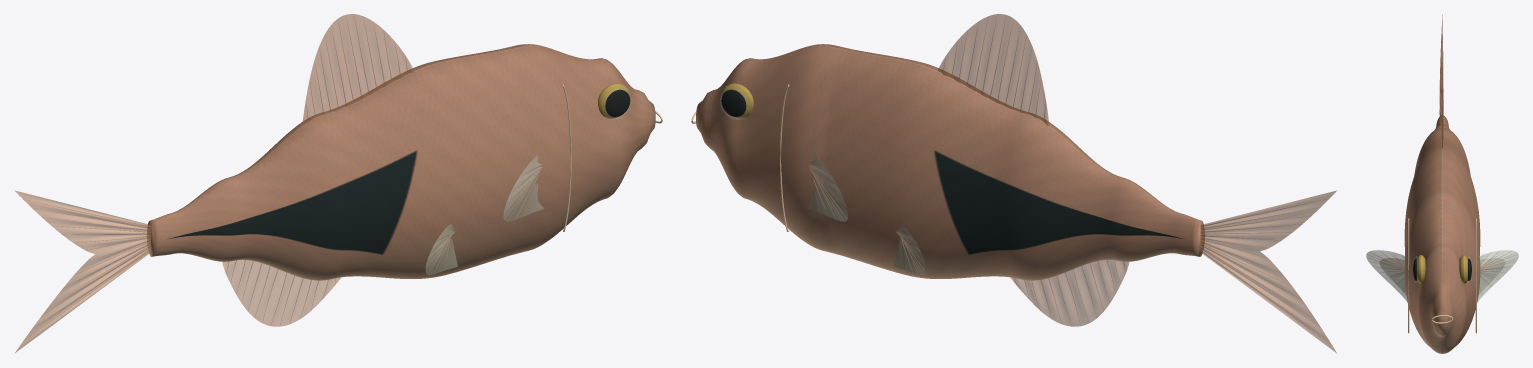
The model's file is harlequin-desktop.glb.
The picture shows the model from 3 angles, left to right: view 1: azimuth 30°, elevation 25°; view 2: azimuth 150°, elevation 25°; view 3: azimuth 270°, elevation 25°; orthographic projection. The views are drawn at different scales.
Parts seen in each view (by area): view 1: skin, tail, dorsal, anal, dorsal-ray, pectoral-left, pelvic-left, eye-pupil--1; view 2: skin, tail, dorsal, anal, dorsal-ray, pectoral-left, pelvic-left, eye-pupil--1; view 3: skin, pectoral-left, pelvic-left, dorsal-ray, operculum, eye-iris--1, tail, dorsal, eye-pupil--1.
Part boxes in pixels (x1,y1,x2,y2): skin: [147, 44, 655, 280]; tail: [15, 190, 150, 352]; dorsal: [302, 14, 413, 124]; anal: [222, 260, 340, 326]; dorsal-ray: [23, 14, 542, 331]; pectoral-left: [503, 155, 543, 221]; pelvic-left: [425, 224, 457, 274]; eye-pupil--1: [605, 89, 630, 116]; skin: [696, 44, 1204, 280]; tail: [1200, 190, 1336, 352]; dorsal: [938, 14, 1049, 125]; anal: [1010, 259, 1129, 326]; dorsal-ray: [808, 14, 1327, 339]; pectoral-left: [807, 156, 848, 221]; pelvic-left: [894, 224, 925, 274]; eye-pupil--1: [721, 89, 746, 116]; skin: [1404, 116, 1480, 353]; pectoral-left: [1366, 250, 1518, 302]; pelvic-left: [1380, 258, 1504, 293]; dorsal-ray: [1372, 26, 1513, 292]; operculum: [1408, 218, 1476, 333]; eye-iris--1: [1417, 255, 1467, 283]; tail: [1439, 14, 1443, 115]; dorsal: [1441, 65, 1443, 148]; eye-pupil--1: [1413, 258, 1471, 280].
Bounding box in the file's own units: 0.5912 × 0.2605 × 0.1571.
11 materials, 1 textured.
